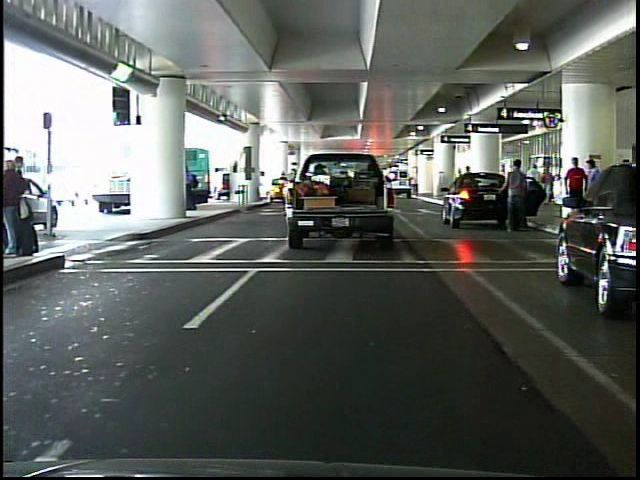person: (493, 151, 533, 236), (564, 155, 585, 191)
